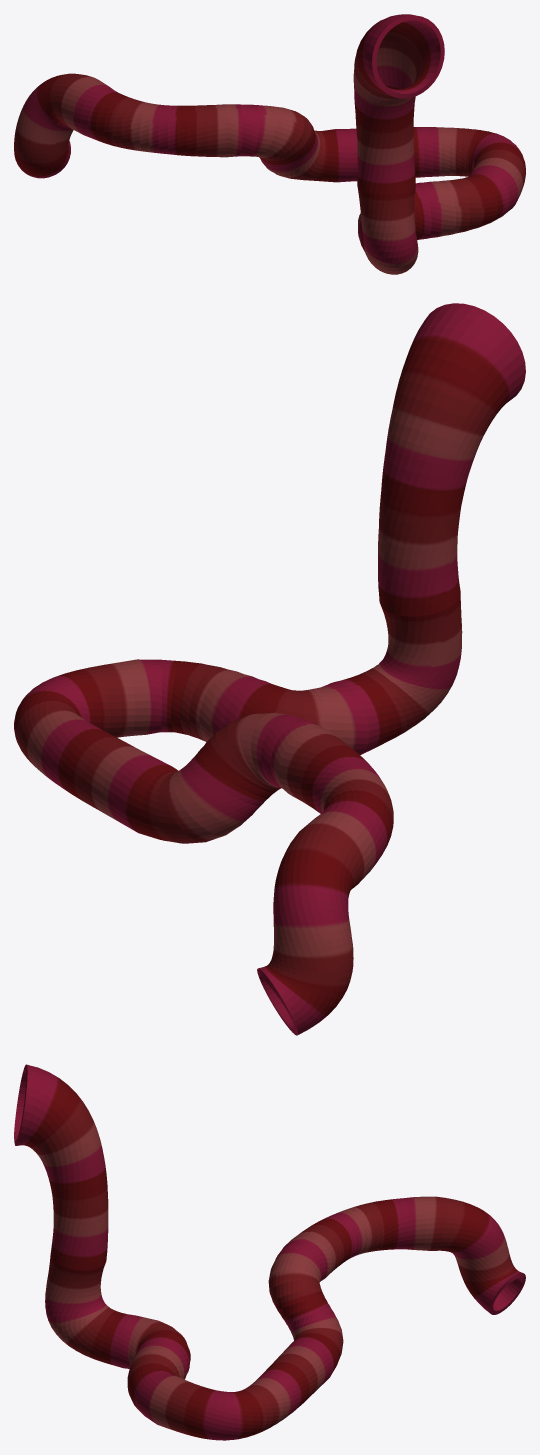
The model's file is AfterSpiral.fbx.
3 renders of one model, top to bottom at view 1: azimuth 30°, elevation 25°; view 2: azimuth 150°, elevation 25°; view 3: azimuth 270°, elevation 25°, orthographic. The views are drawn at different scales.
Parts seen in each view (by area): view 1: secont tunnels; view 2: secont tunnels; view 3: secont tunnels.
Boxes of the visible parts, x1,y1,x2,y2 form: secont tunnels: (14,14,525,274); secont tunnels: (14,303,525,1035); secont tunnels: (14,1064,525,1440).
Bounding box in the file's own units: 3591 × 4515 × 2925.
